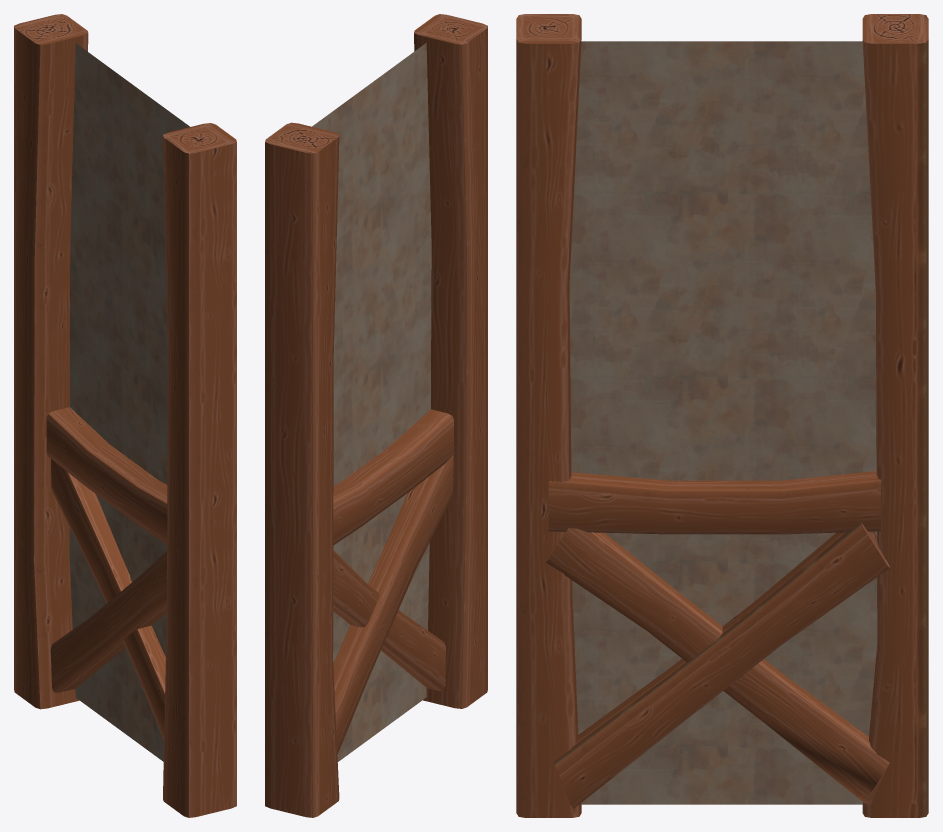
The model's file is SM_Wall_02.fbx.
3 views of the same model, side by side, from view 1: azimuth 30°, elevation 25°; view 2: azimuth 150°, elevation 25°; view 3: azimuth 270°, elevation 25° (orthographic). The views are drawn at different scales.
Parts seen in each view (by area): view 1: SM_Wall_02_LOD0; view 2: SM_Wall_02_LOD0; view 3: SM_Wall_02_LOD0.
Boxes of the visible parts, <box> form: SM_Wall_02_LOD0: <box>14,14,236,817</box>; SM_Wall_02_LOD0: <box>265,14,487,817</box>; SM_Wall_02_LOD0: <box>516,14,928,817</box>.
Size of the model in its own units: 63.52 by 334 by 692.
Materials: 2 (2 with a texture image).
